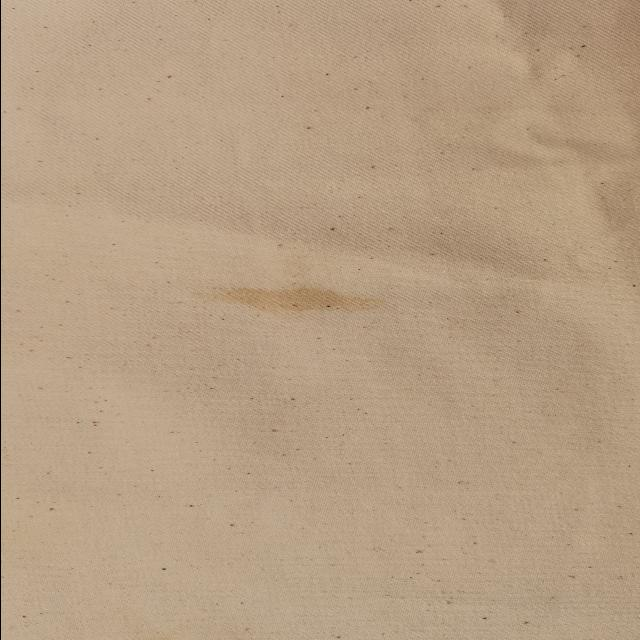taaaches: (183, 276, 417, 338)
